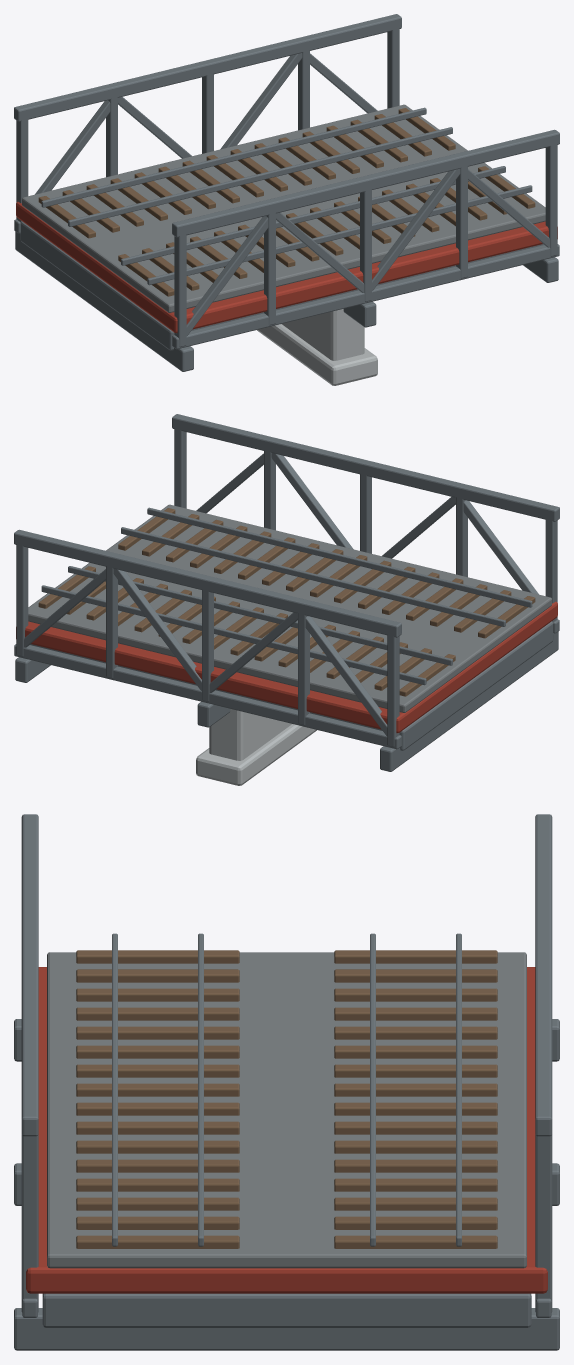
File: SM_SolCity_RailBridge_01.fbx
3 renders of one model, top to bottom at view 1: azimuth 30°, elevation 25°; view 2: azimuth 150°, elevation 25°; view 3: azimuth 270°, elevation 25°, orthographic. The views are drawn at different scales.
Visible parts, largest first — view 1: SM_SolCity_RailBridge_01; view 2: SM_SolCity_RailBridge_01; view 3: SM_SolCity_RailBridge_01.
Boxes of the visible parts, x1=… form: SM_SolCity_RailBridge_01: x1=14, y1=14, x2=559, y2=385; SM_SolCity_RailBridge_01: x1=14, y1=414, x2=559, y2=785; SM_SolCity_RailBridge_01: x1=14, y1=814, x2=559, y2=1350.
Size of the model in its own units: 12 by 9.1 by 6.33.
